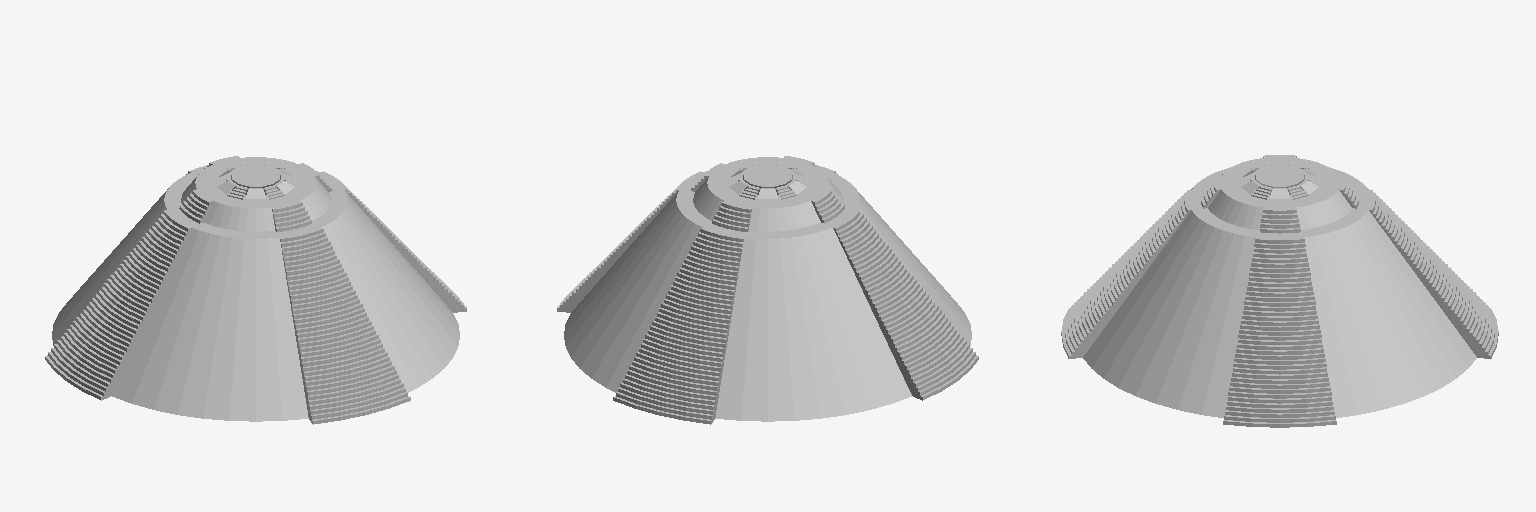
Rendered from TableCollider.obj.
3 views of the same model, side by side, from view 1: azimuth 30°, elevation 25°; view 2: azimuth 150°, elevation 25°; view 3: azimuth 270°, elevation 25° (orthographic).
Parts seen in each view (by area): view 1: Mesh1, Mesh; view 2: Mesh1, Mesh; view 3: Mesh1, Mesh.
Part boxes in pixels (left/top/right/bottom): Mesh1: left=45, top=156, right=466, bottom=421; Mesh: left=45, top=163, right=466, bottom=424; Mesh1: left=557, top=156, right=978, bottom=422; Mesh: left=557, top=165, right=978, bottom=424; Mesh1: left=1061, top=155, right=1498, bottom=427; Mesh: left=1061, top=157, right=1497, bottom=427.
Size of the model in its own units: 62.33 by 24.98 by 62.33.